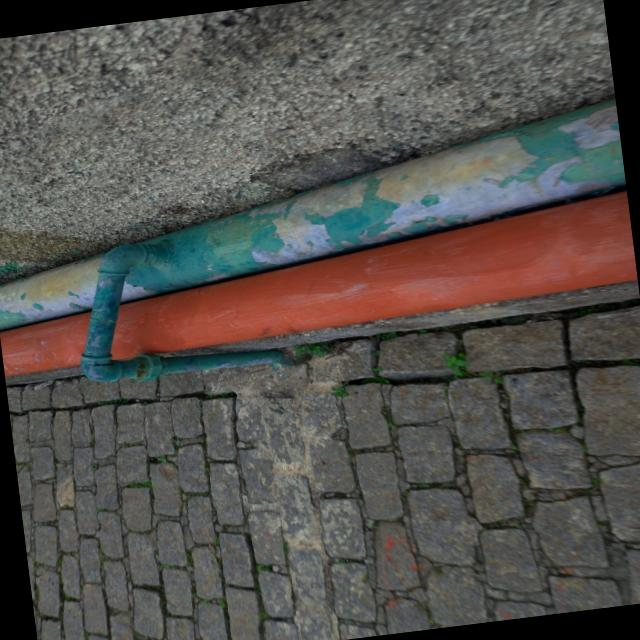gas: (0, 97, 625, 327), (0, 191, 637, 375), (77, 250, 135, 378), (107, 347, 282, 379)
